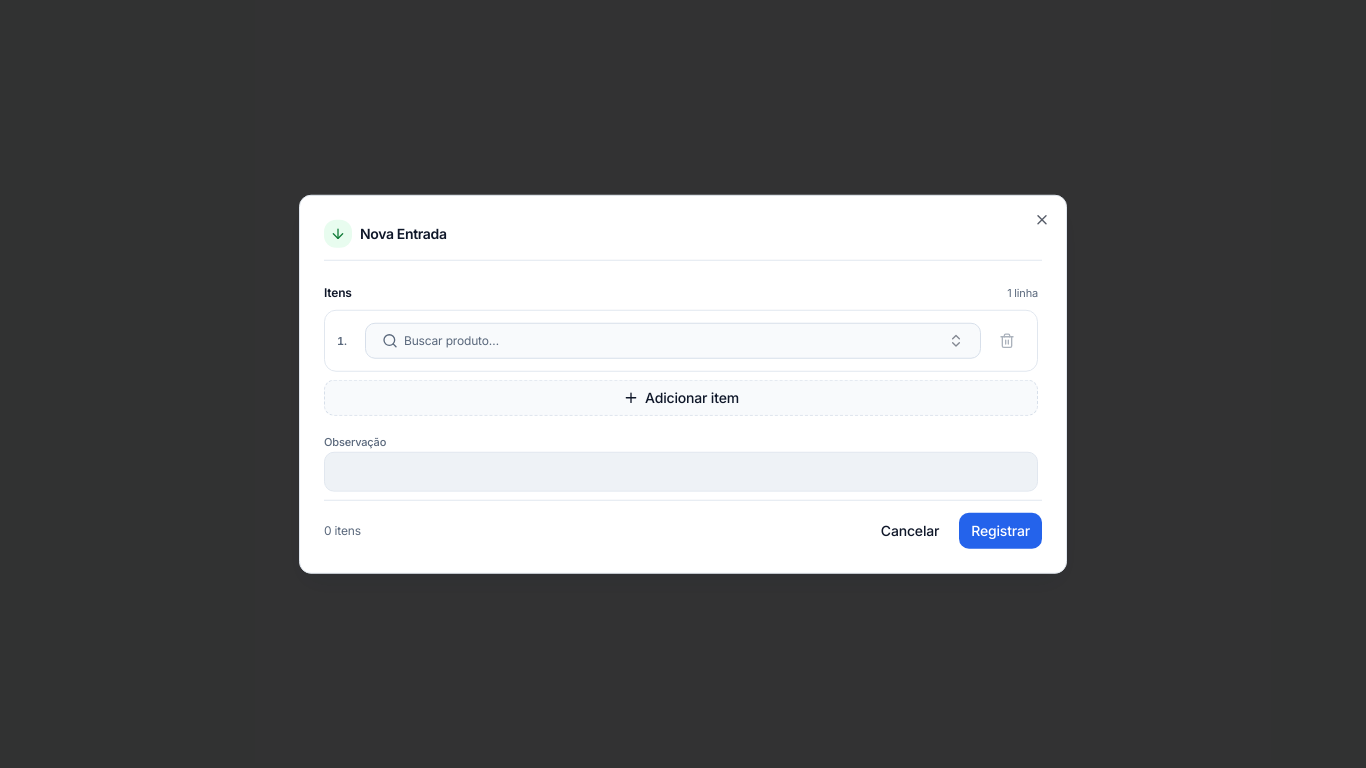
Scenario: NovaMovimentacaoModal › starts with one item line and adds more with "Adicionar item"
Expected: the number of buttons named "Remover item" is 1, top-left (989, 322), bottom-right (1025, 358)
Click the button "Adicionar item": (681, 397) top-left (324, 379), bottom-right (1038, 415)
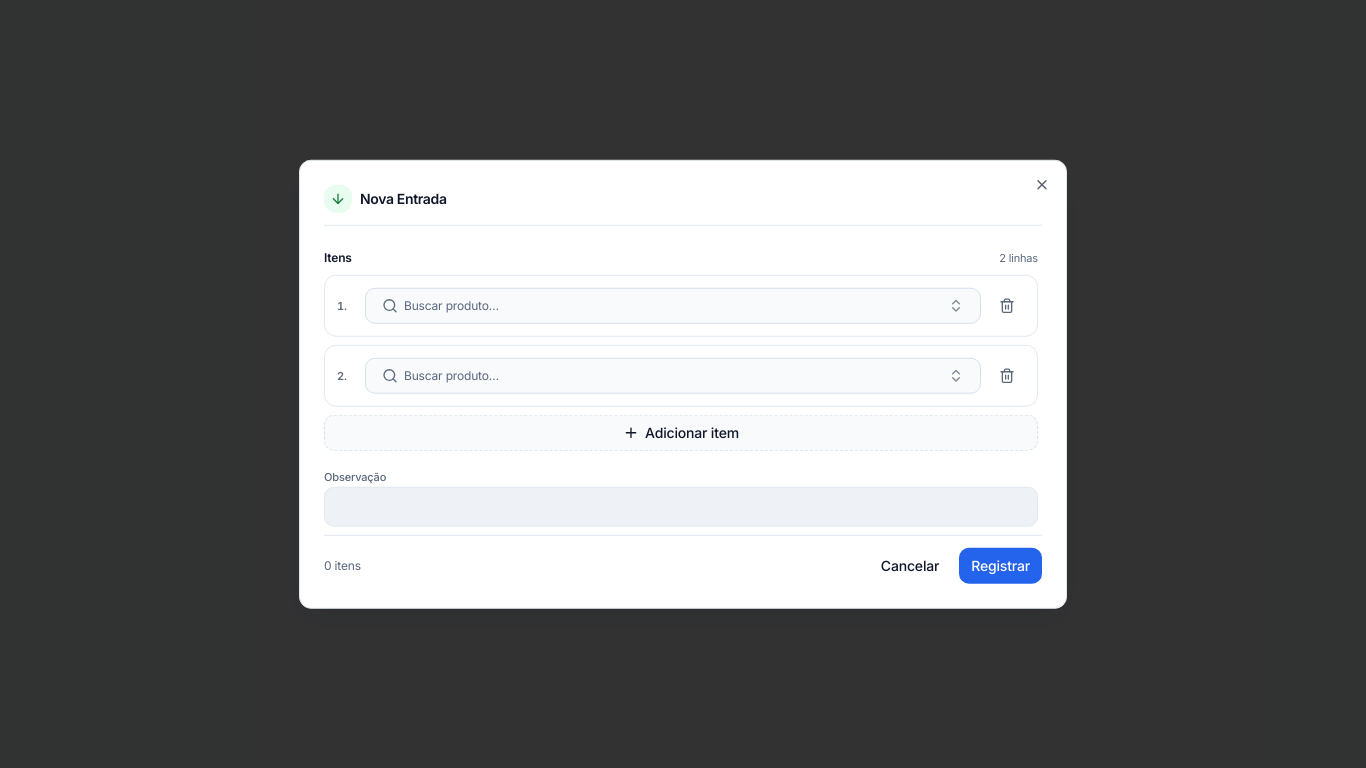
Click the button "Adicionar item": (681, 432) top-left (324, 414), bottom-right (1038, 450)
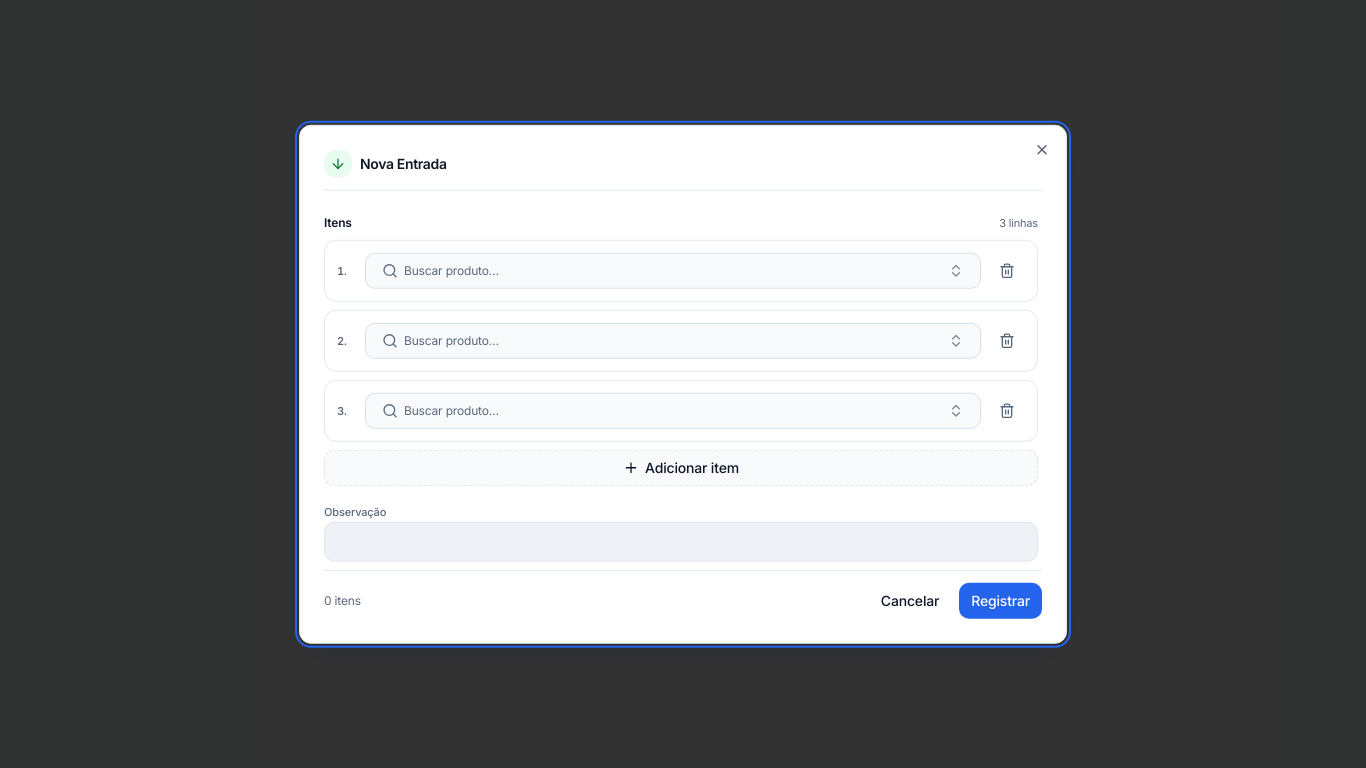
Expected: the number of buttons named "Remover item" is 3, top-left (989, 252), bottom-right (1025, 288); top-left (989, 322), bottom-right (1025, 358); top-left (989, 392), bottom-right (1025, 428)
